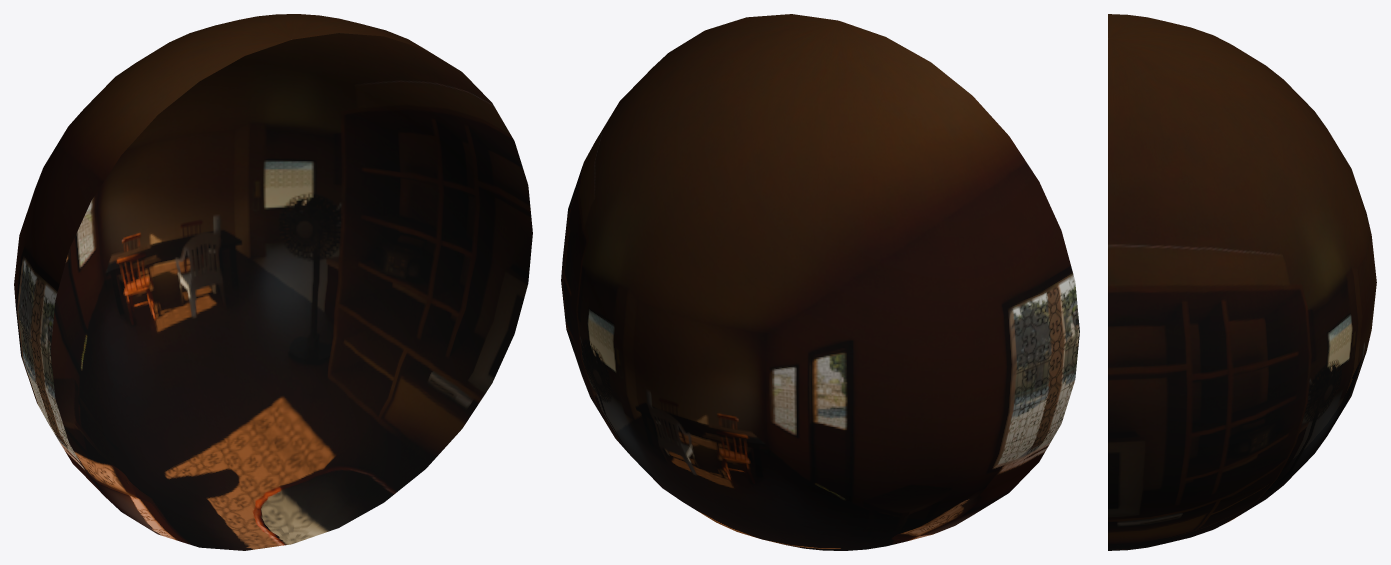
File: interior_skybox_window.glb
3 views of the same model, side by side, from view 1: azimuth 30°, elevation 25°; view 2: azimuth 150°, elevation 25°; view 3: azimuth 270°, elevation 25° (orthographic). The views are drawn at different scales.
Parts seen in each view (by area): view 1: Sphere; view 2: Sphere; view 3: Sphere.
Part boxes in pixels (left/top/right/bottom): Sphere: left=14, top=14, right=532, bottom=550; Sphere: left=561, top=14, right=1079, bottom=550; Sphere: left=1108, top=14, right=1376, bottom=550.
Size of the model in its own units: 3.56 by 3.56 by 1.78.
Materials: 1 (1 with a texture image).
